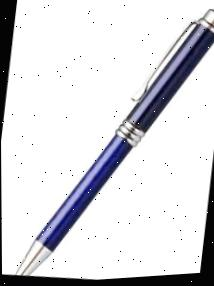pen-pencil: (14, 9, 214, 275)
